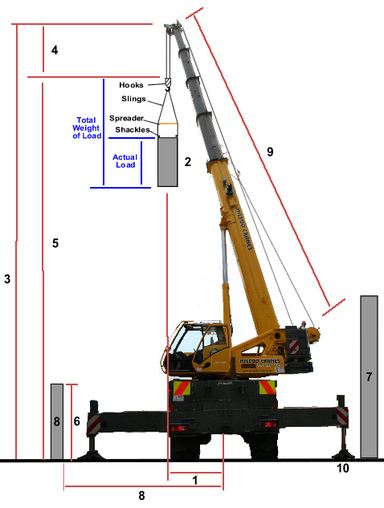crane: (161, 19, 312, 455)
